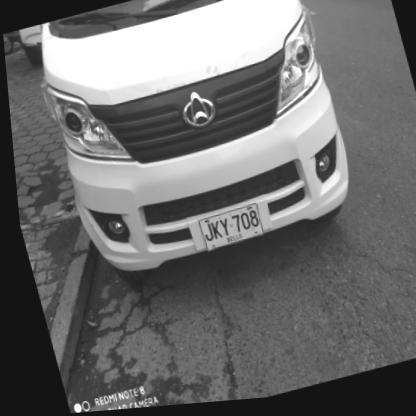placa: (187, 202, 264, 258)
